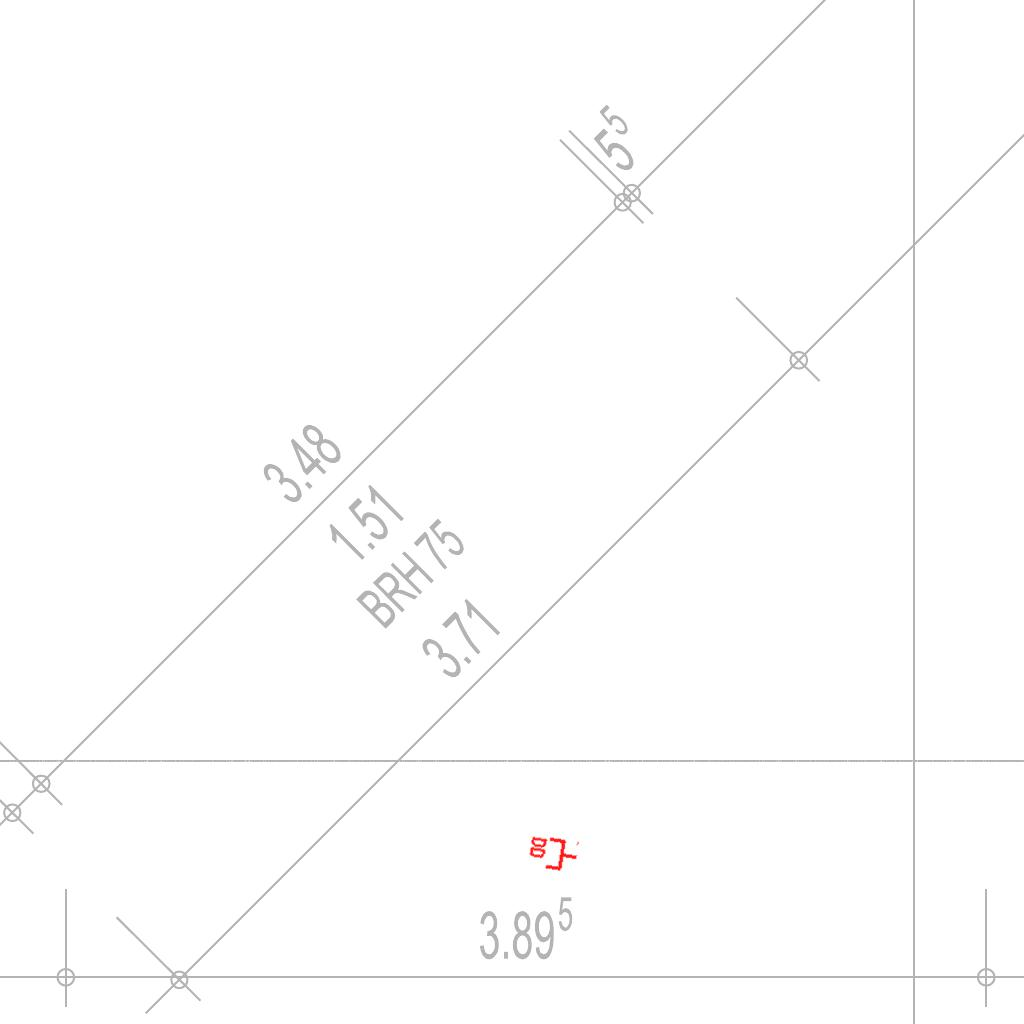Datenanschluss_zweifach: (525, 833, 581, 876)
